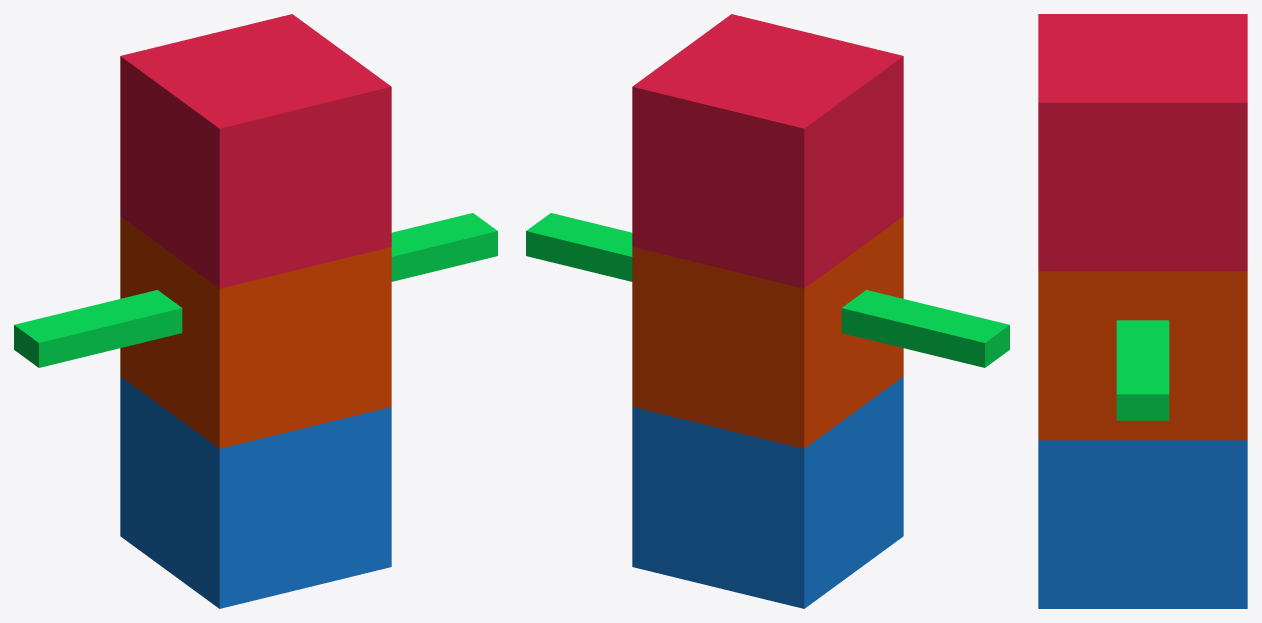
Rendered from Player.fbx.
3 renders of one model, left to right at view 1: azimuth 30°, elevation 25°; view 2: azimuth 150°, elevation 25°; view 3: azimuth 270°, elevation 25°, orthographic. The views are drawn at different scales.
Parts seen in each view (by area): view 1: Avatar; view 2: Avatar; view 3: Avatar.
Boxes of the visible parts, x1,y1,x2,y2 form: Avatar: (14, 14, 497, 608); Avatar: (526, 14, 1009, 608); Avatar: (1038, 14, 1247, 608).
Bounding box in the file's own units: 320 × 320 × 120.
